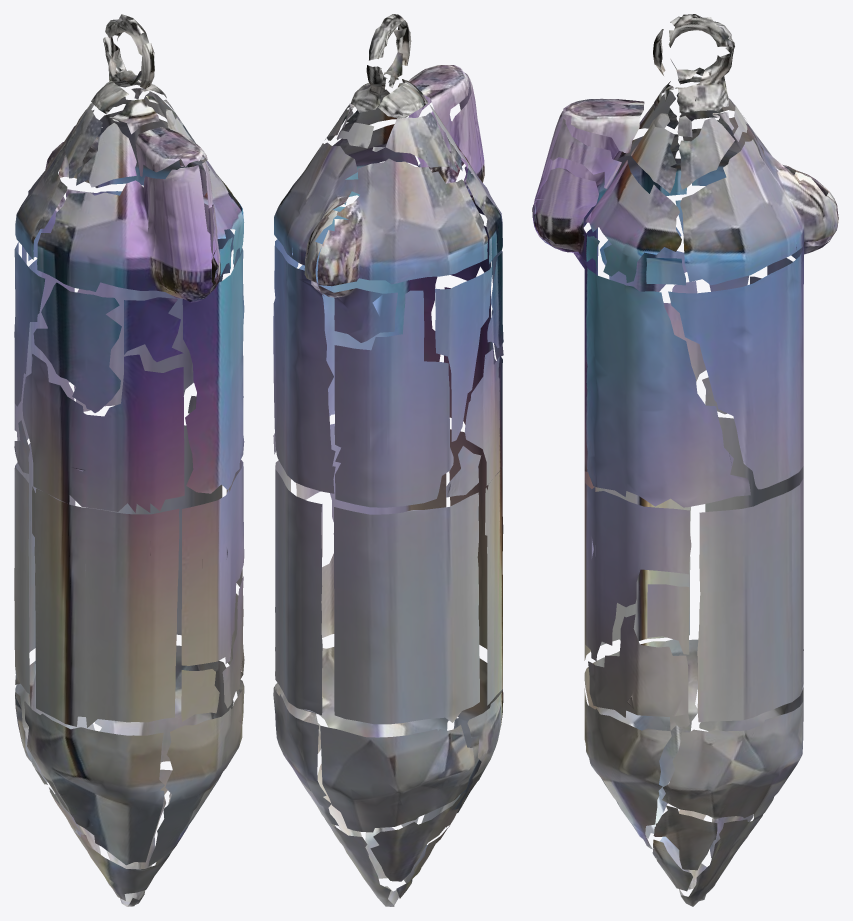
Rendered from crystal_3.glb.
3 views of the same model, side by side, from view 1: azimuth 30°, elevation 25°; view 2: azimuth 150°, elevation 25°; view 3: azimuth 270°, elevation 25° (orthographic).
Parts seen in each view (by area): view 1: crystal; view 2: crystal; view 3: crystal.
Part boxes in pixels (x1,y1,x2,y2): crystal: (14,14,244,906); crystal: (273,14,503,906); crystal: (532,14,838,906).
Size of the model in its own units: 0.2242 by 0.9763 by 0.3047.
Materials: 1 (1 with a texture image).
